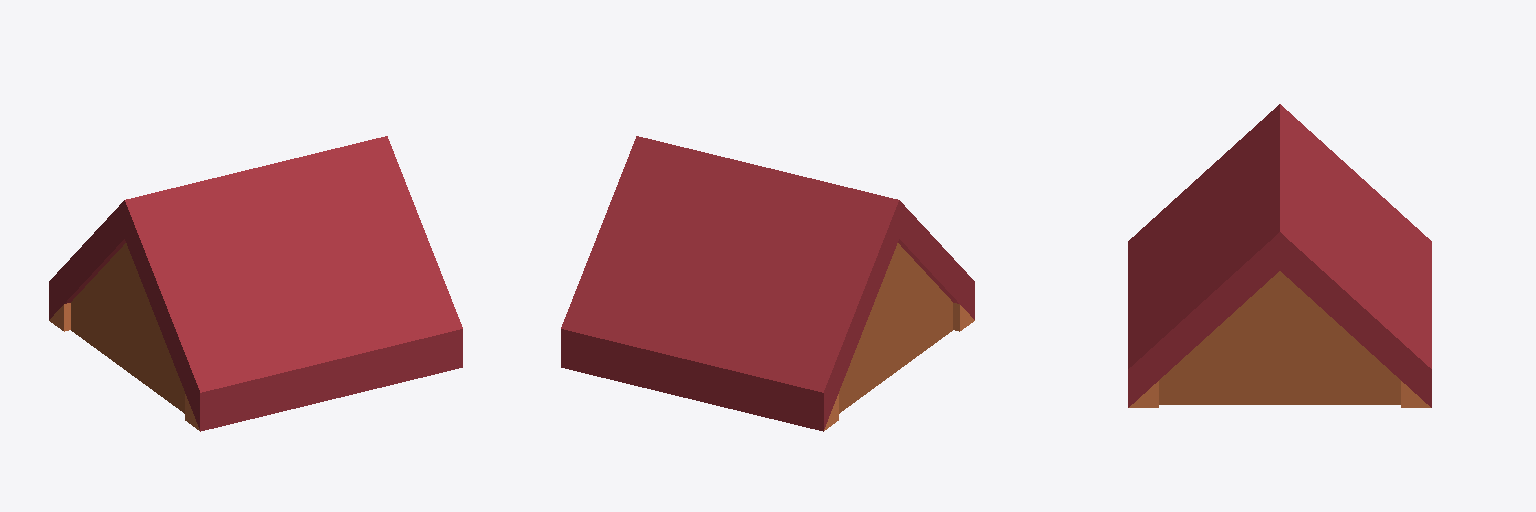
File: roofHighGableTop.obj
3 renders of one model, left to right at view 1: azimuth 30°, elevation 25°; view 2: azimuth 150°, elevation 25°; view 3: azimuth 270°, elevation 25°, orthographic.
Visible parts, largest first — view 1: roofHighGableTop; view 2: roofHighGableTop; view 3: roofHighGableTop.
Boxes of the visible parts, x1,y1,x2,y2 form: roofHighGableTop: [49, 136, 462, 431]; roofHighGableTop: [561, 136, 974, 431]; roofHighGableTop: [1128, 104, 1431, 407].
Size of the model in its own units: 1 by 0.641 by 1.